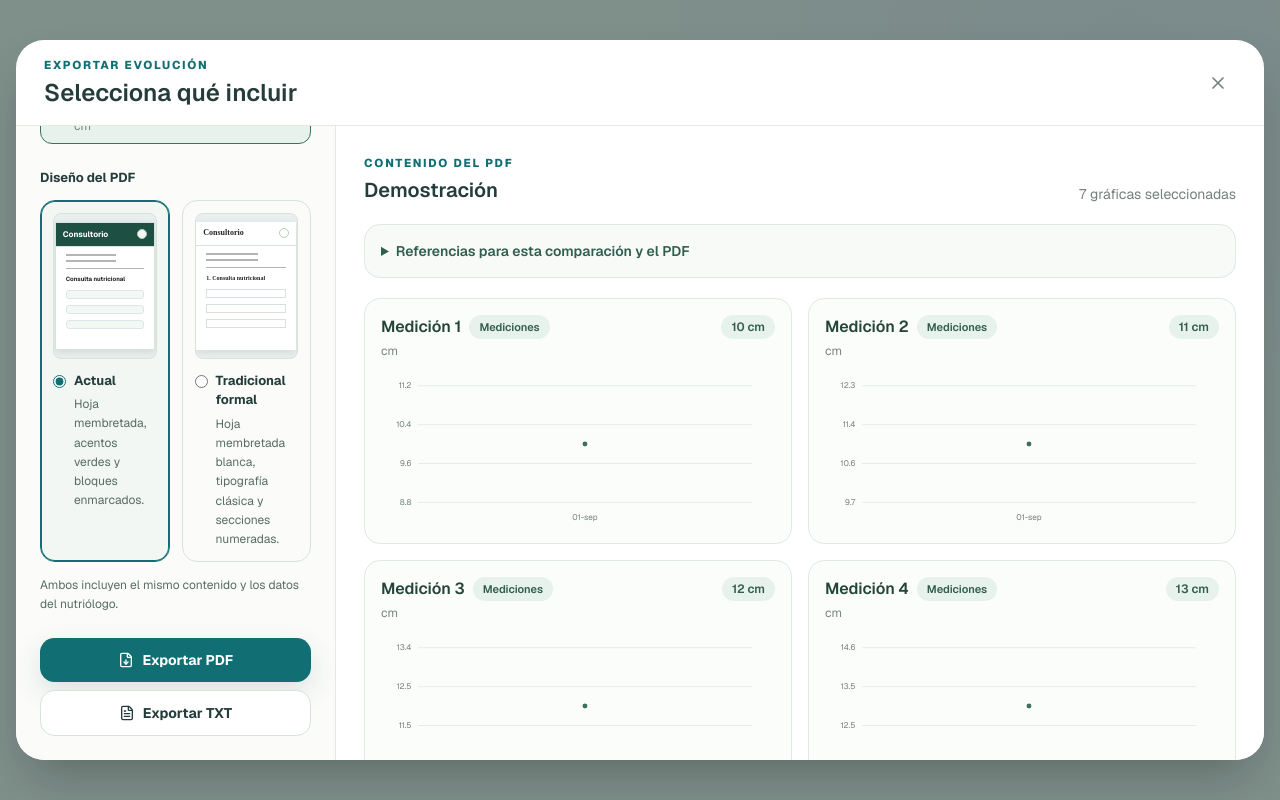
evolution export selection › reports export errors and lets the professional retry
(page scrolled)
Expected: the text "7 gráficas seleccionadas" is shown, [1079,184,1236,204]
Click the button "Exportar PDF" at (176, 660), box [40,638,311,682]
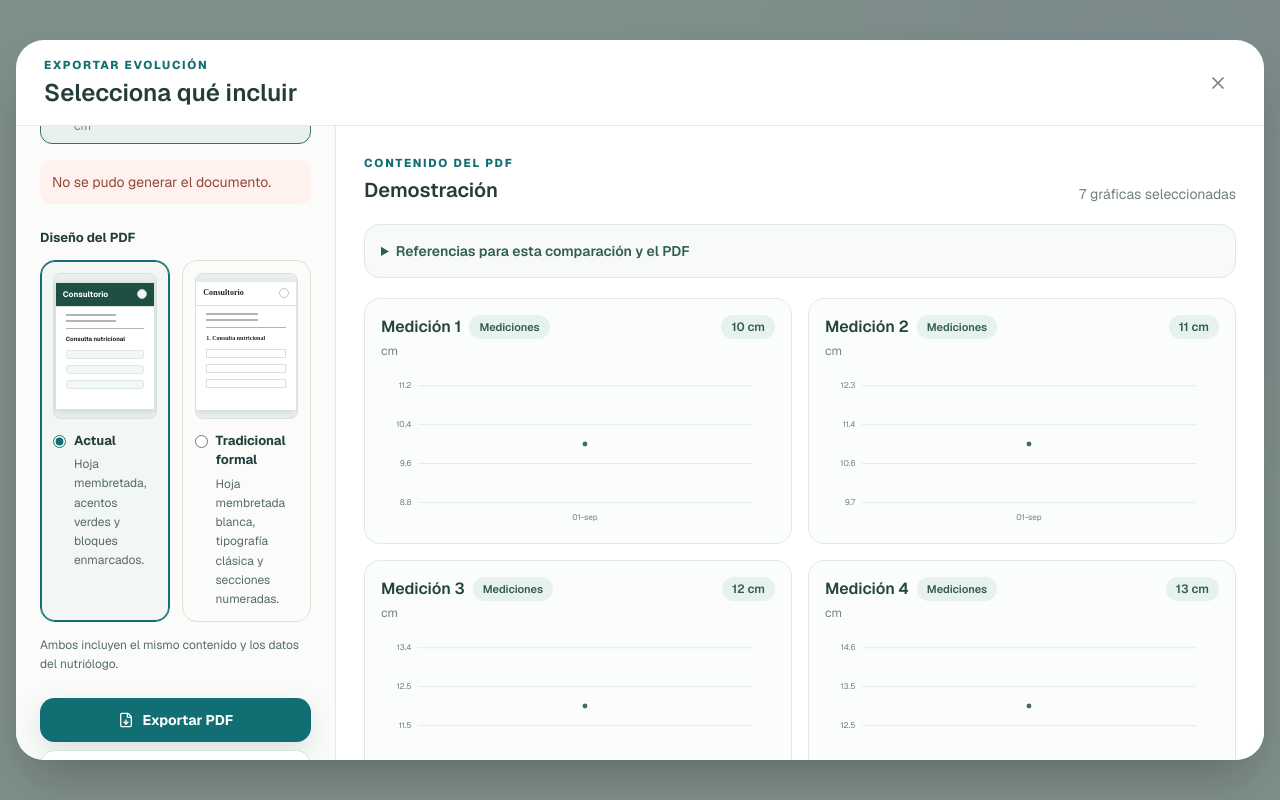
Expected: the button "Exportar PDF" is enabled, [40,698,311,742]
Result: the message reads "No se pudo generar el documento." at [52,173,271,191]
